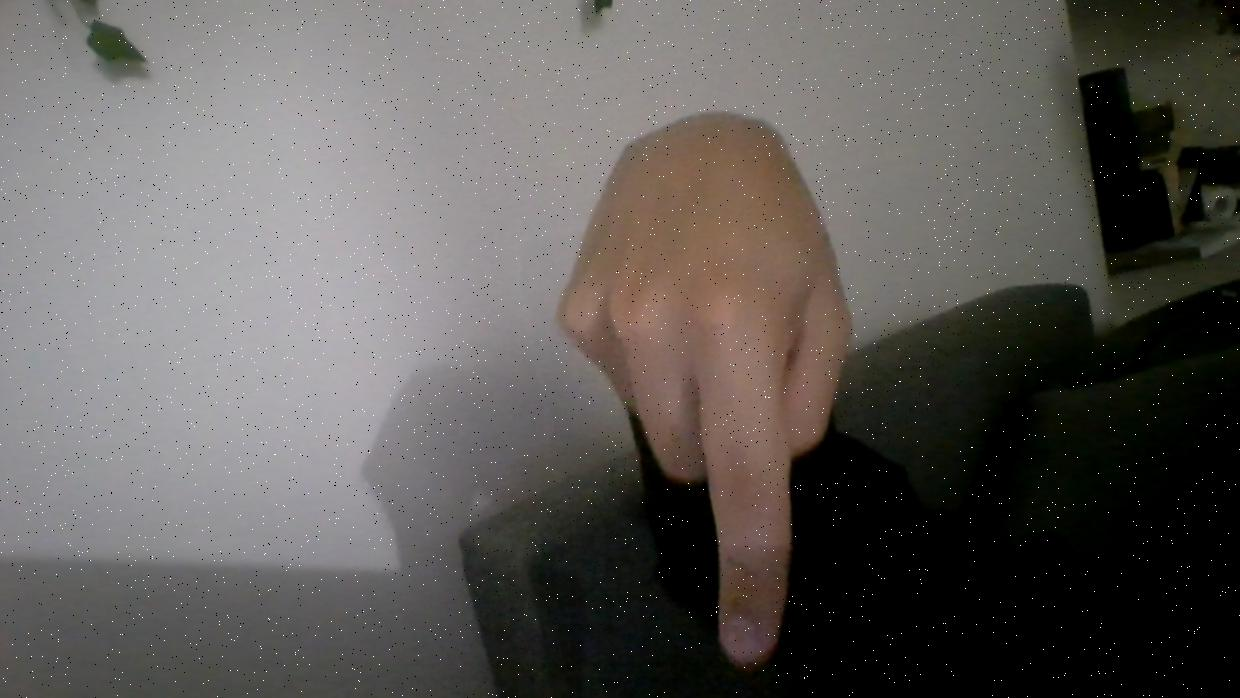down: (550, 77, 894, 685)
